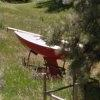Boat: (5, 19, 72, 84)
